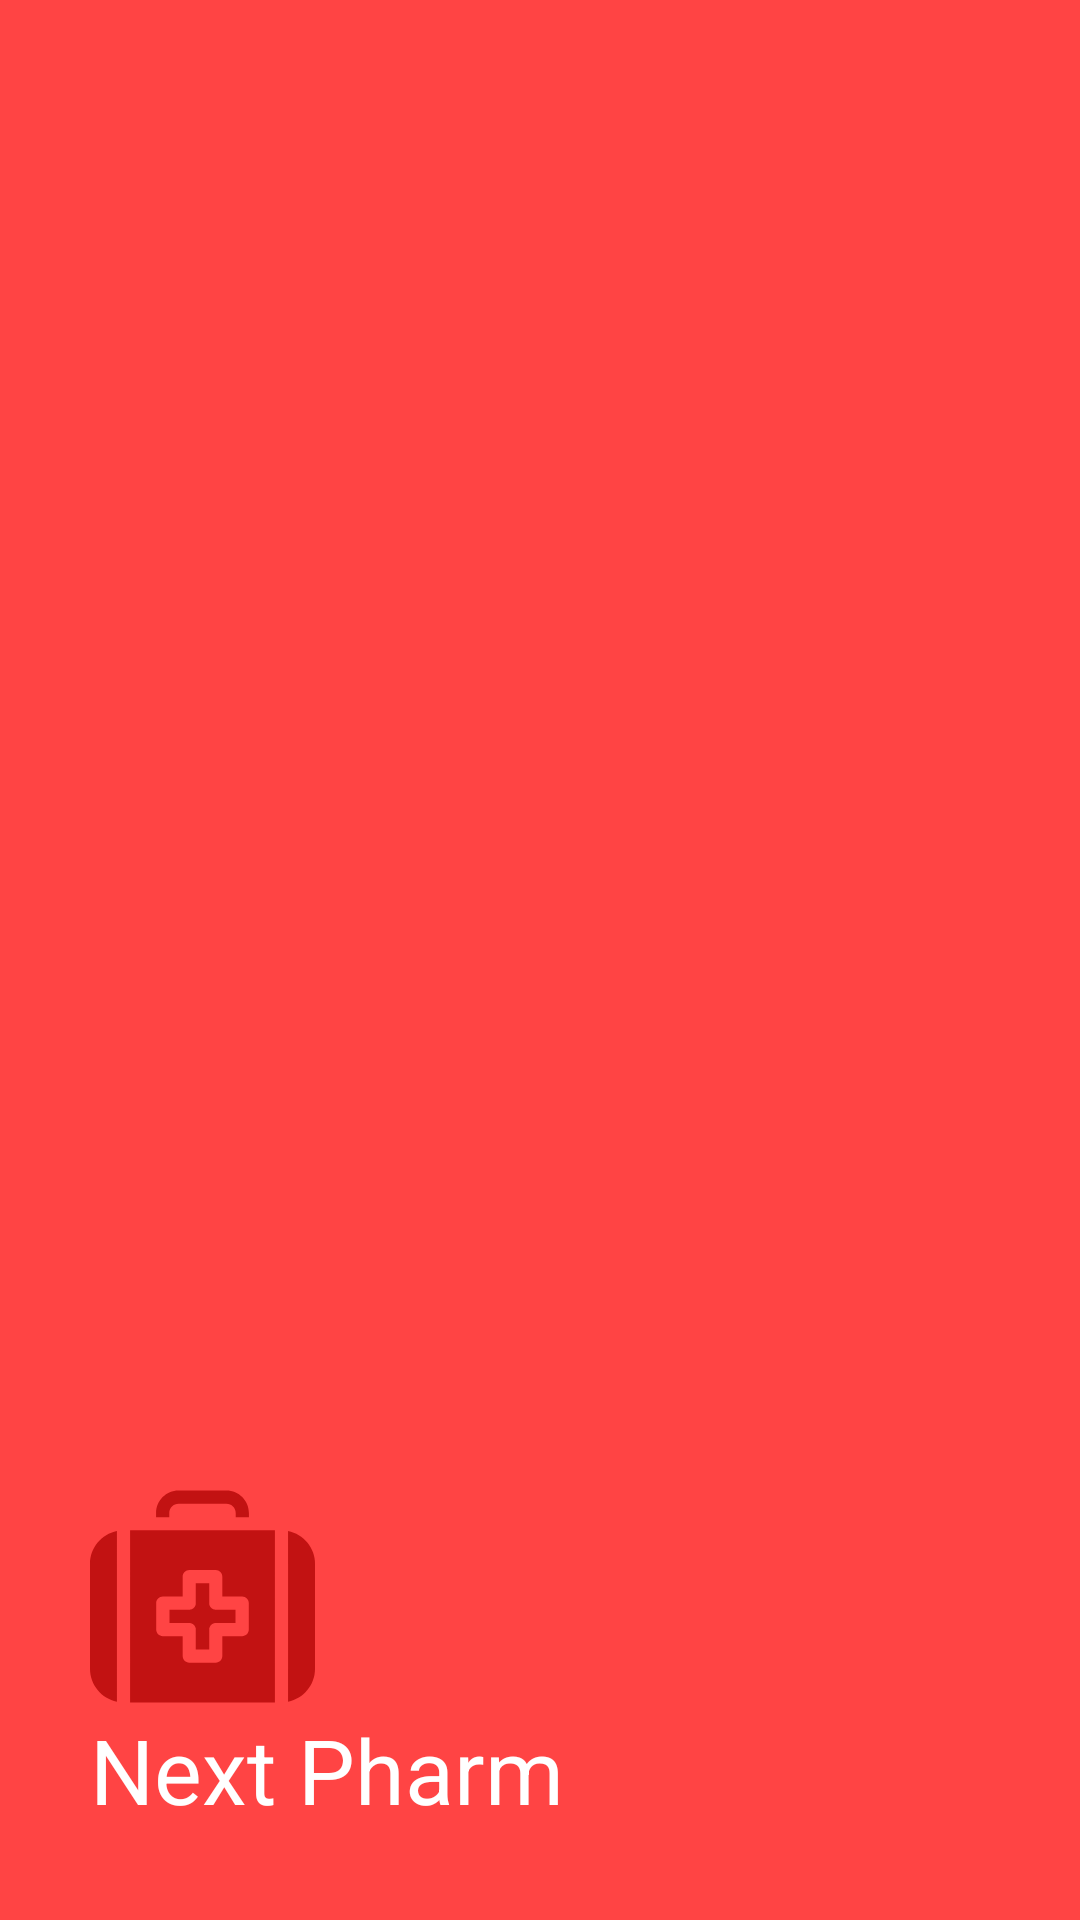

Point at icon controls on the screen. Image size 1080 x 1920, points as [x,y].
first aid kit: [202,1596]
